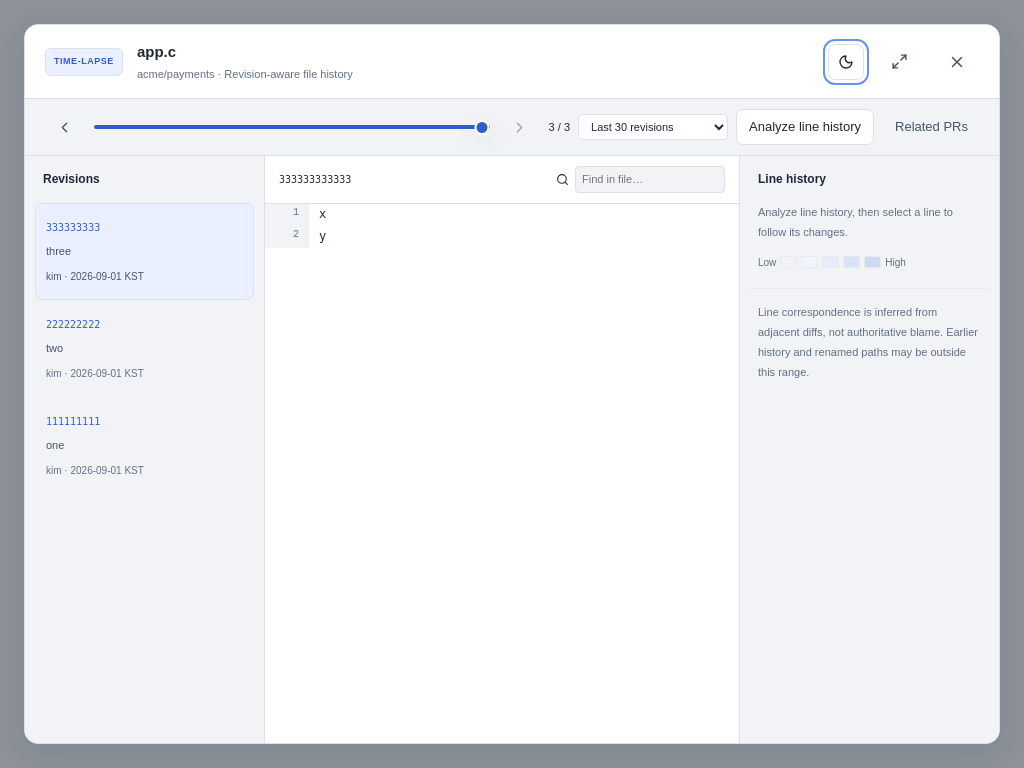
Test: CR-132 FR-SRC-004 Time-lapse reaches older revisions and analyzes more than 30 › FR-SRC-004 a binary revision is skipped and named instead of failing the whole analysis
Expected: the text "y" is shown, [319,230,326,244]
Click the button "Analyze line history" at (805, 127), box [736,109,874,145]
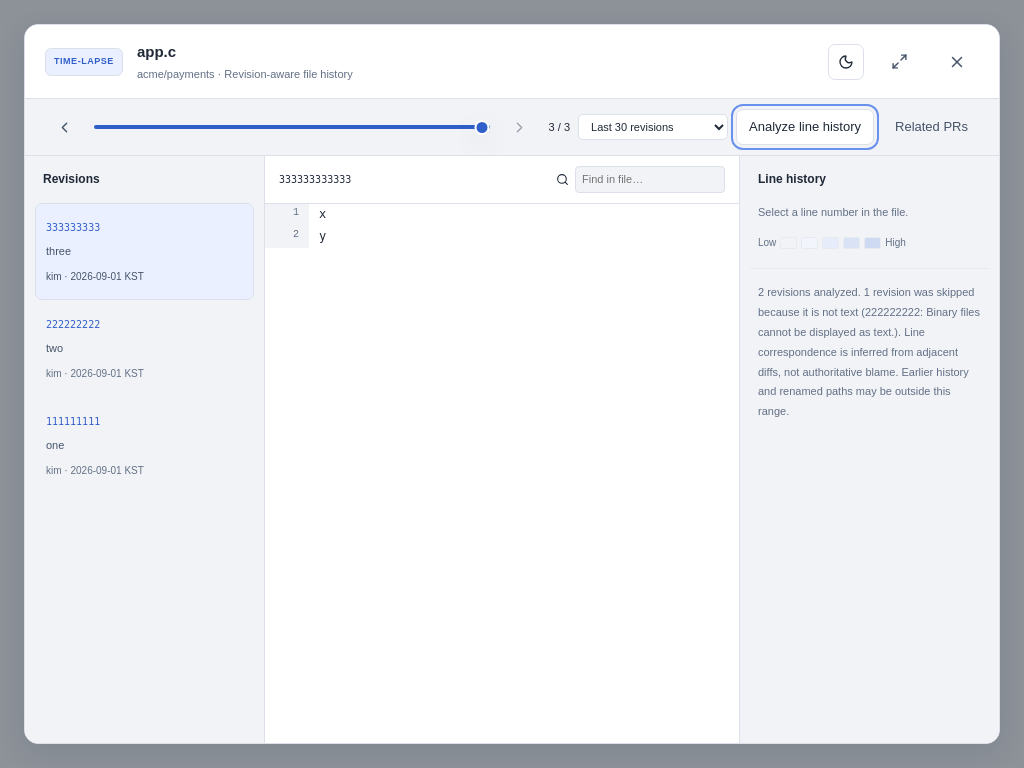
Expected: the text "2 revisions analyzed. 1 revision was skipped because it is not text (222222222: Binary files cannot be displayed as te" is shown, [758,286,980,338]
